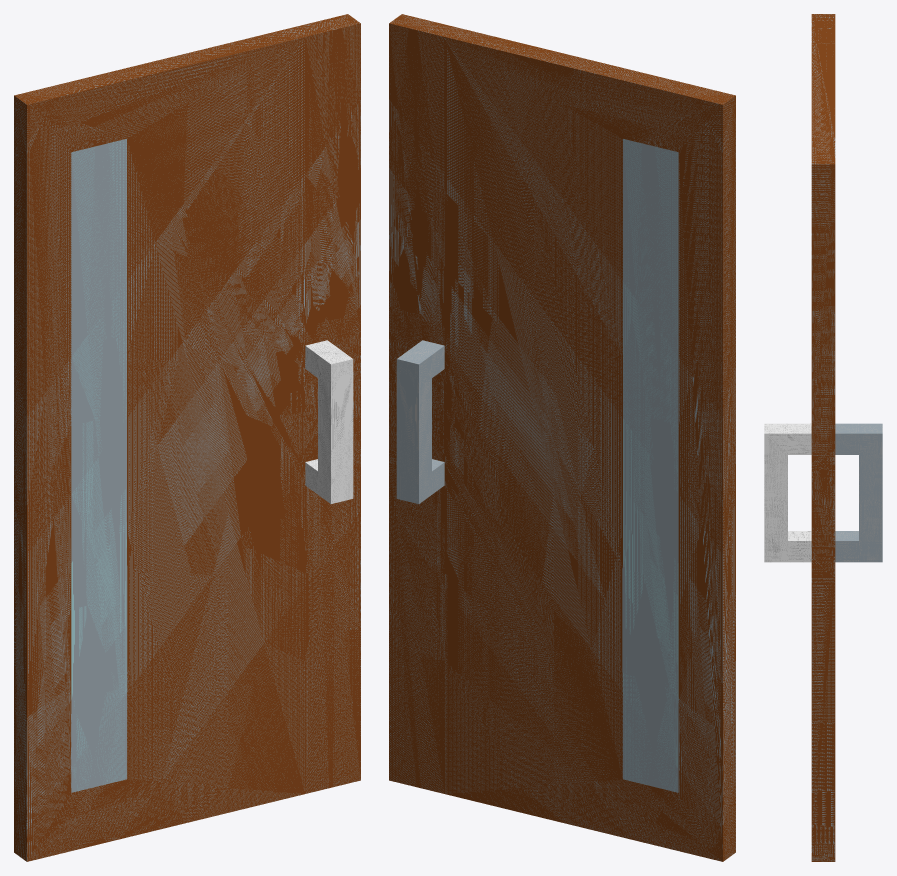
Rendered from door3.fbx.
The picture shows the model from 3 angles, left to right: view 1: azimuth 30°, elevation 25°; view 2: azimuth 150°, elevation 25°; view 3: azimuth 270°, elevation 25°; orthographic projection. The views are drawn at different scales.
Visible parts, largest first — view 1: Mesh1_Door_3_1 Model; view 2: Mesh1_Door_3_1 Model; view 3: Mesh1_Door_3_1 Model.
Part boxes in pixels (box(x1,y1,x2,y2)): Mesh1_Door_3_1 Model: box(14, 14, 360, 861); Mesh1_Door_3_1 Model: box(389, 14, 735, 861); Mesh1_Door_3_1 Model: box(764, 14, 882, 861).
Size of the model in its own units: 0.3 by 0.65 by 0.1.
